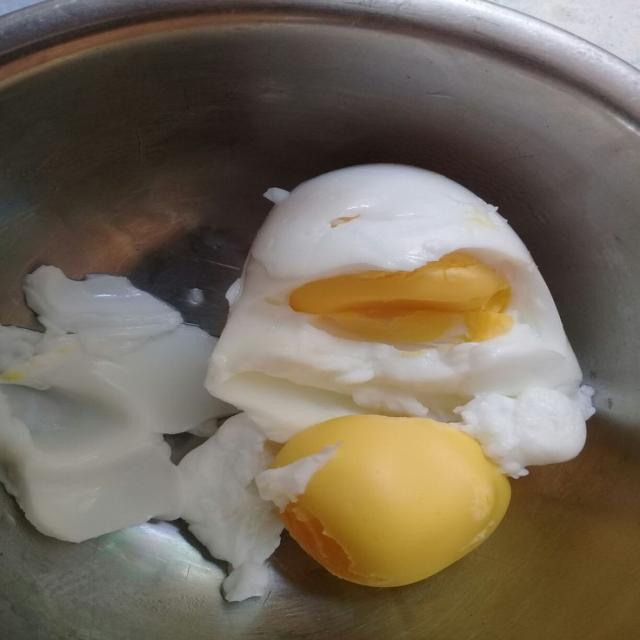eggs: (11, 178, 576, 609)
